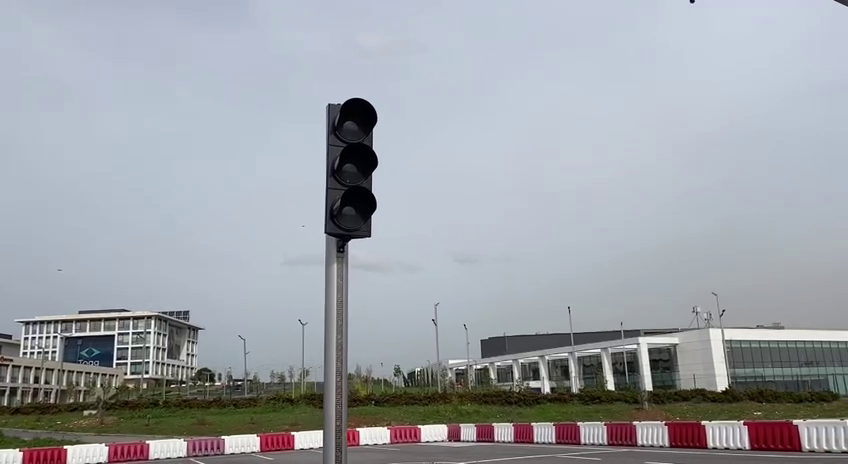trafficLight: (318, 93, 380, 243)
